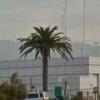Palm tree: (15, 16, 73, 86)
